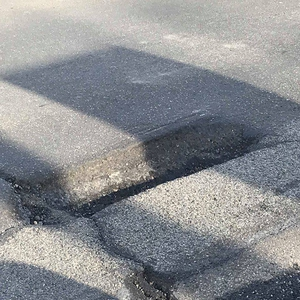pothole: (7, 119, 269, 236)
